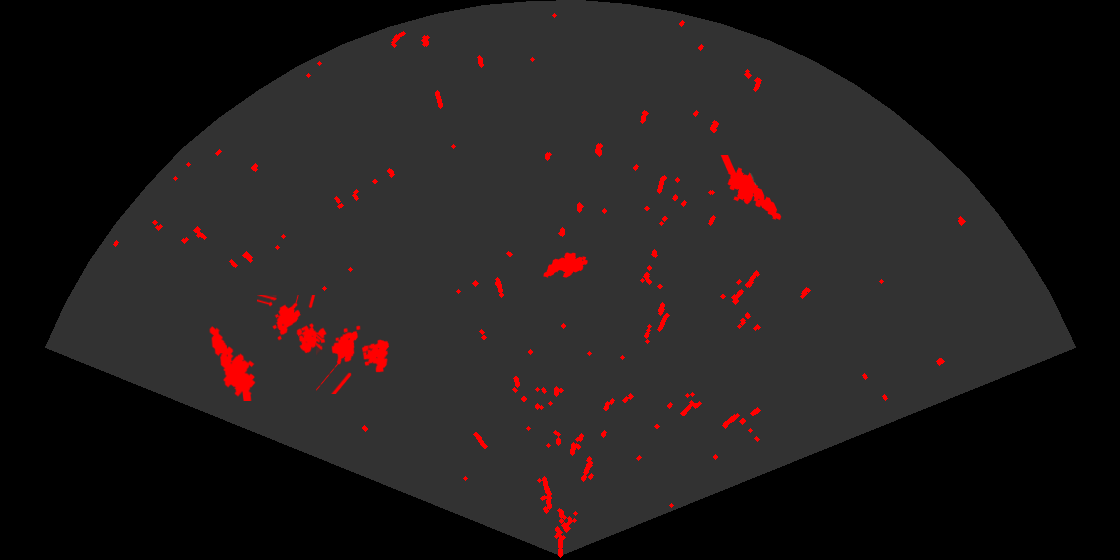AUV: (542, 251, 589, 279)
cage: (316, 324, 391, 394), (257, 295, 328, 355)
frogman: (719, 155, 783, 222), (208, 325, 257, 401)
